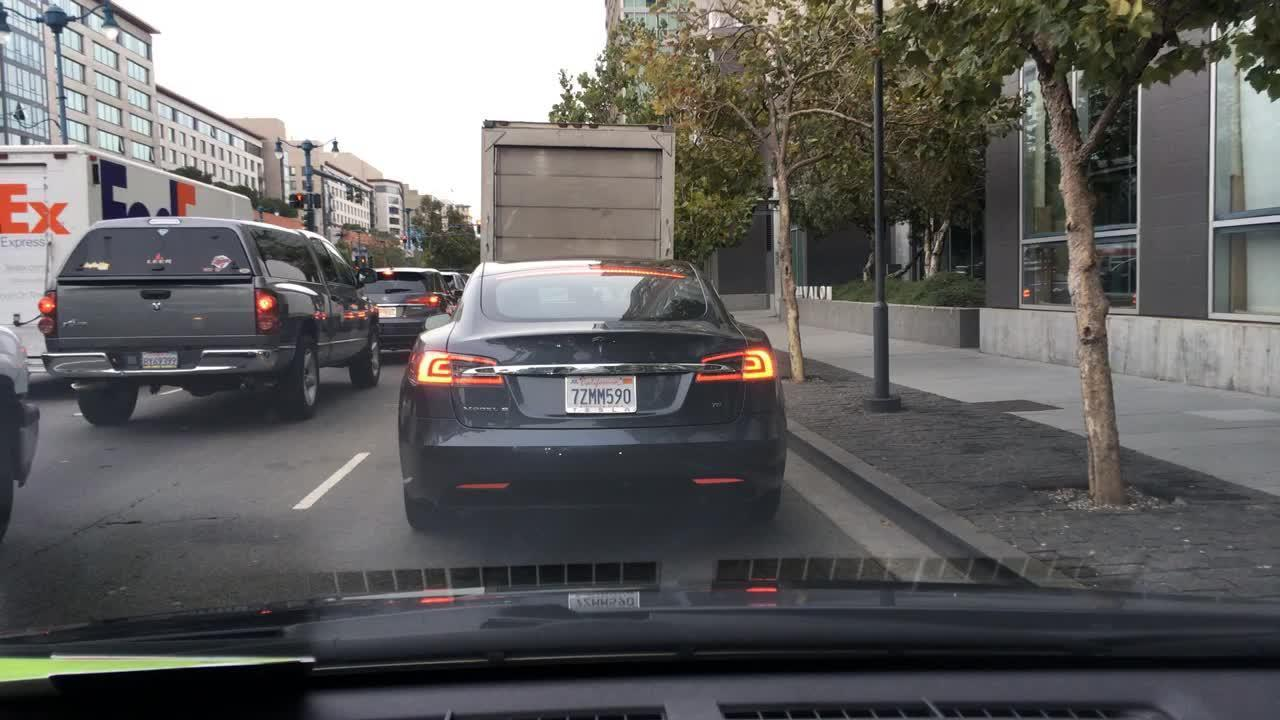no class: (590, 334, 614, 360)
ram: (151, 299, 165, 314)
